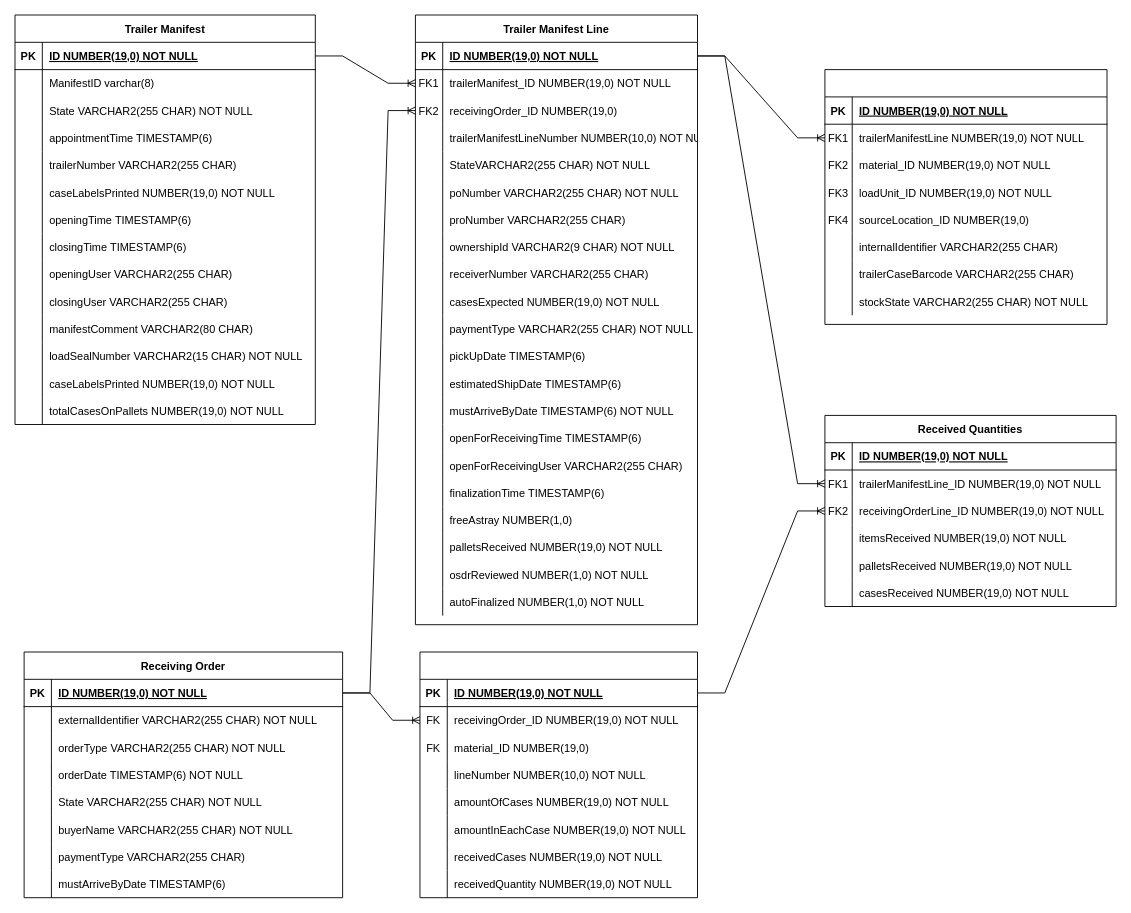
This 1131x913 diagram has some shape labels left out. Each missing label, with the box of its shape:
Receiving Order Line: (419, 651, 698, 898)
Stock Items: (824, 69, 1107, 324)
